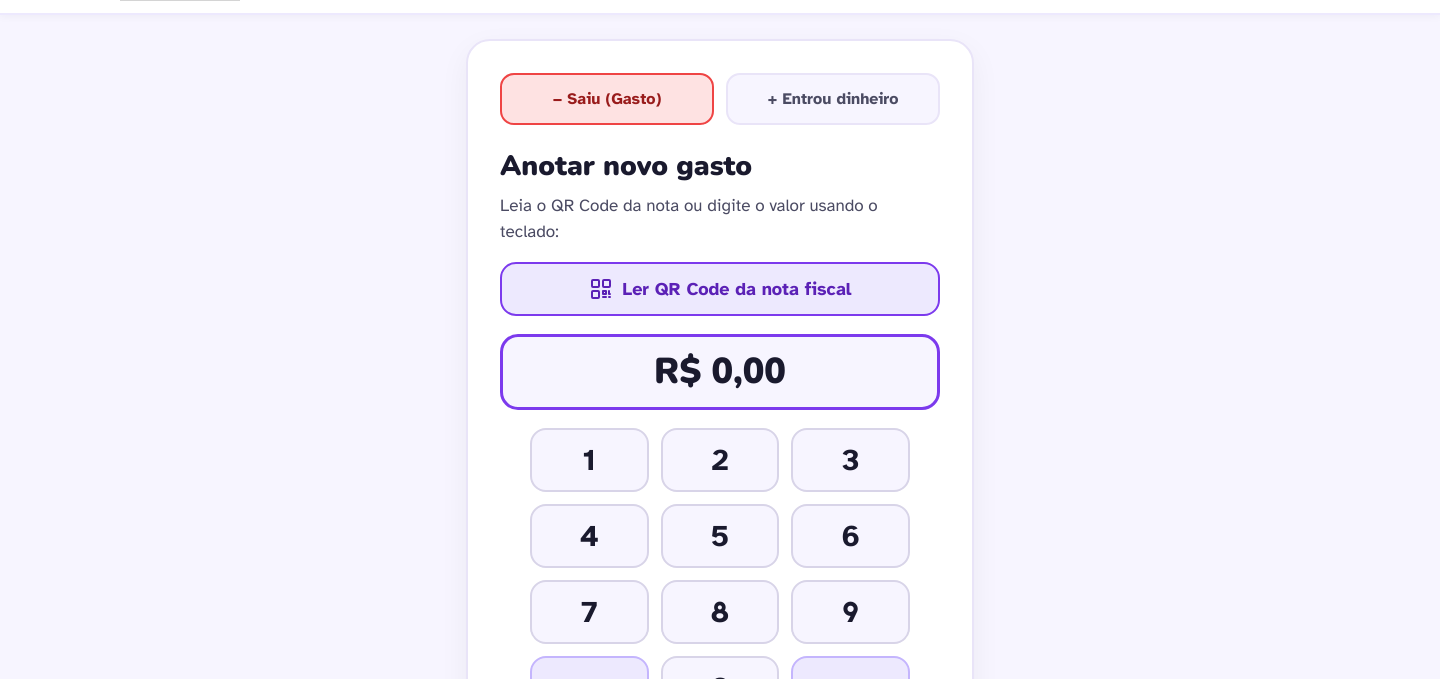
Test: Página AnotarGasto › grava o gasto na API com a categoria escolhida e só então confirma
What coordinates should you click on to do the following:
click the button "2"
I would click on:
 (720, 460)
Its box is [661,428,779,492].
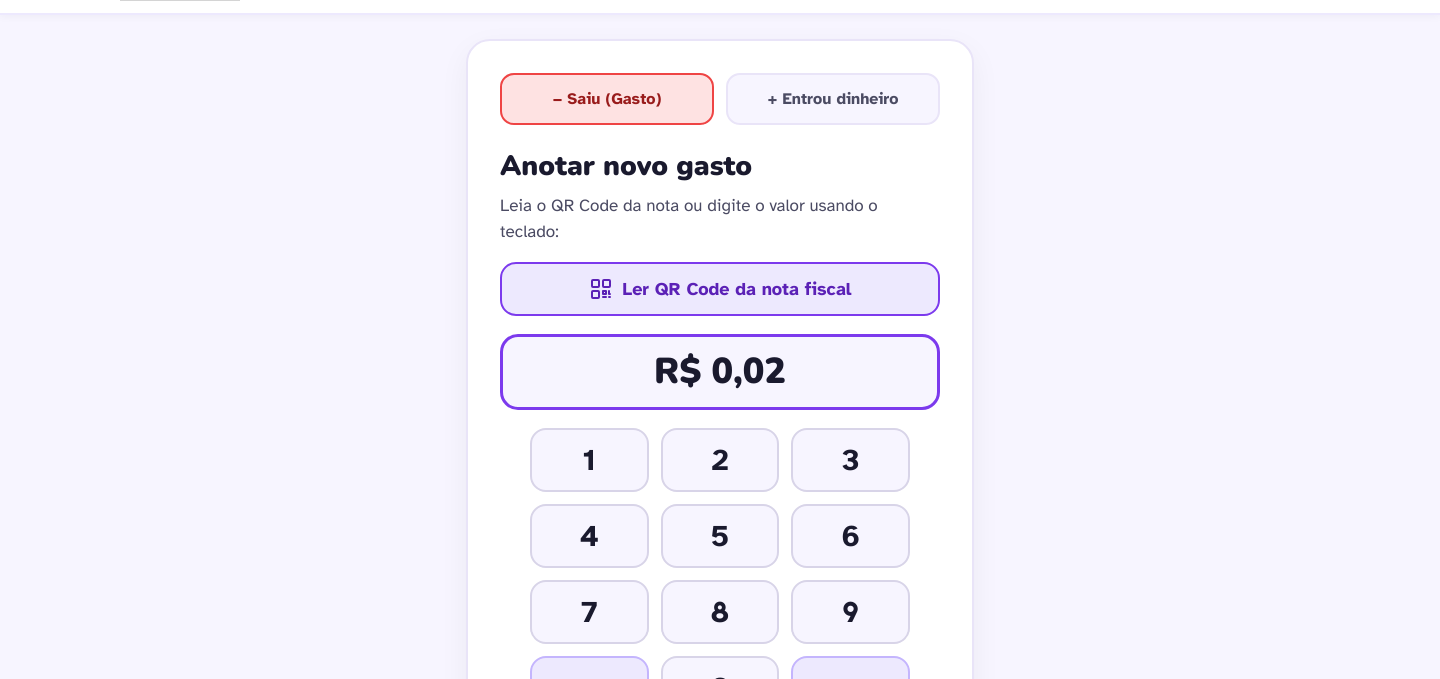
What coordinates should you click on to do the following:
click the button "5"
I would click on:
 (720, 536)
Its box is [661,504,779,568].
(page scrolled)
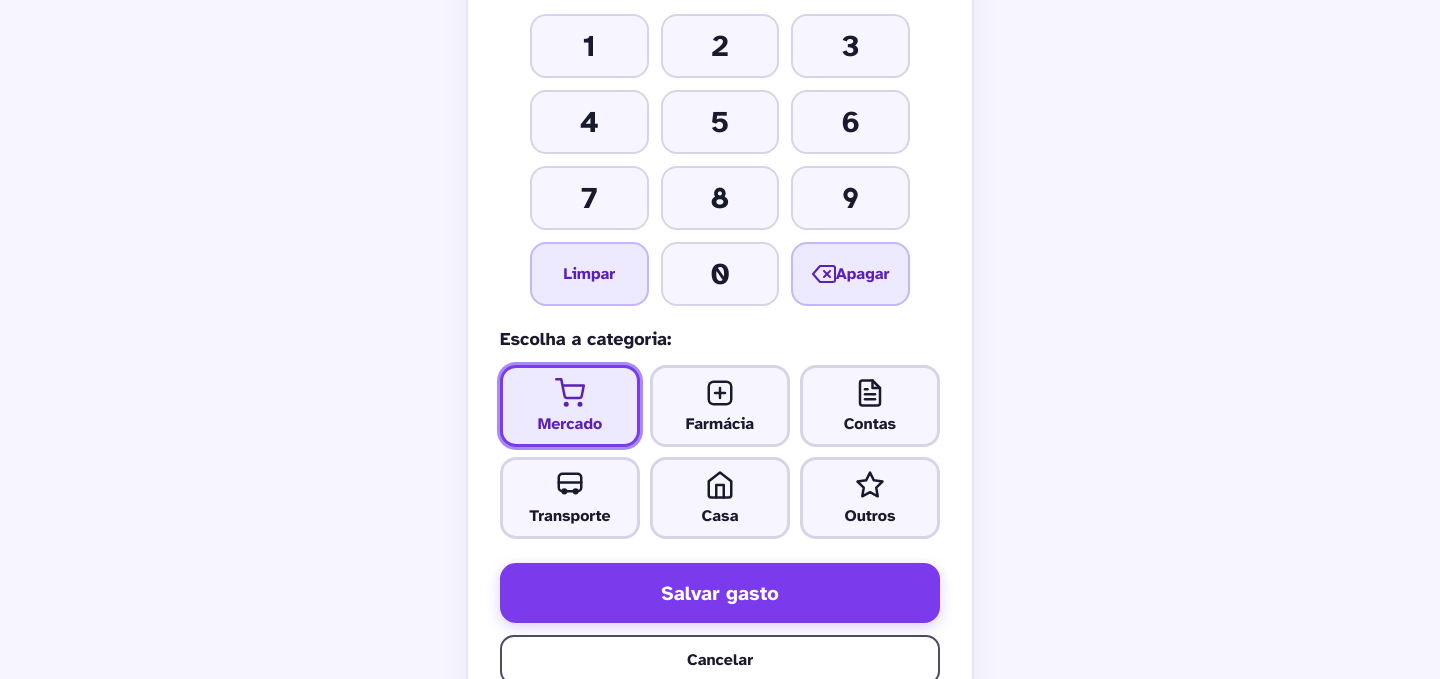
What coordinates should you click on to do the following:
click the button "0"
I would click on:
 (720, 274)
Its box is [661,242,779,306].
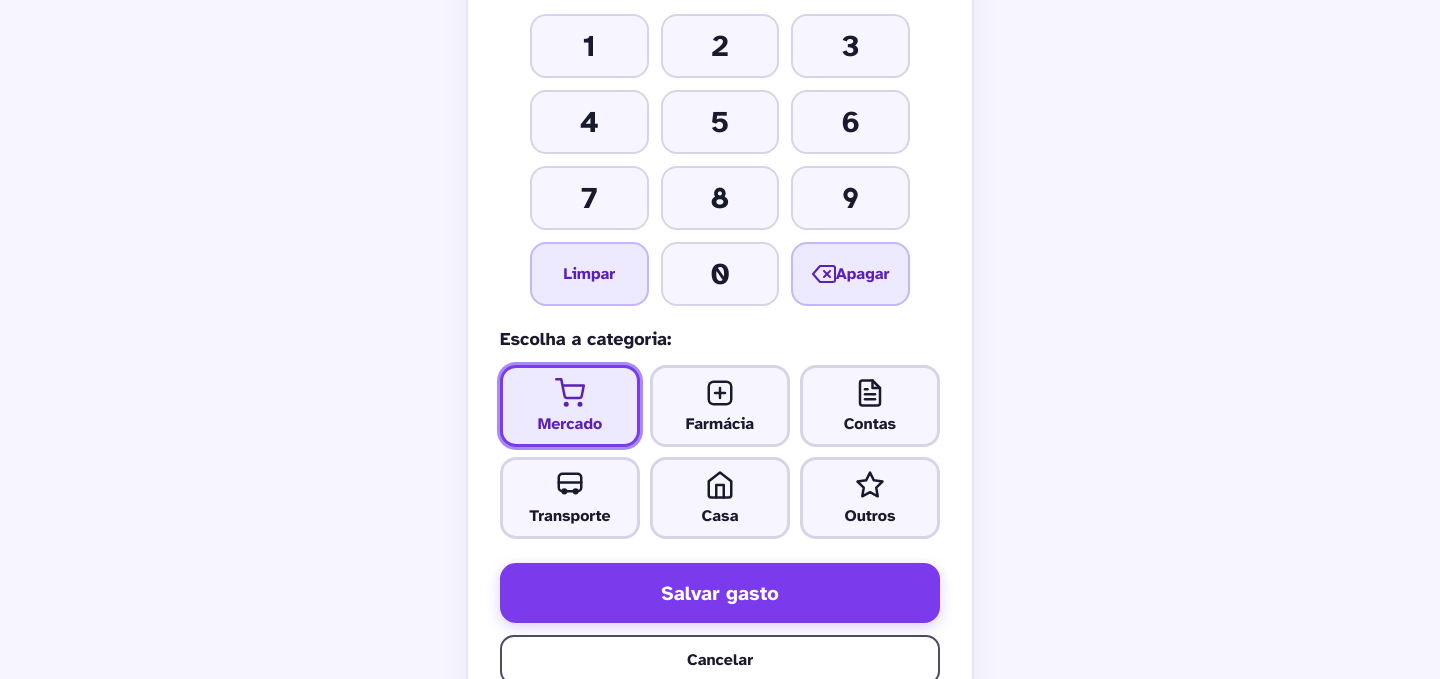
What coordinates should you click on to do the following:
click the button "0"
I would click on:
 (720, 274)
Its box is [661,242,779,306].
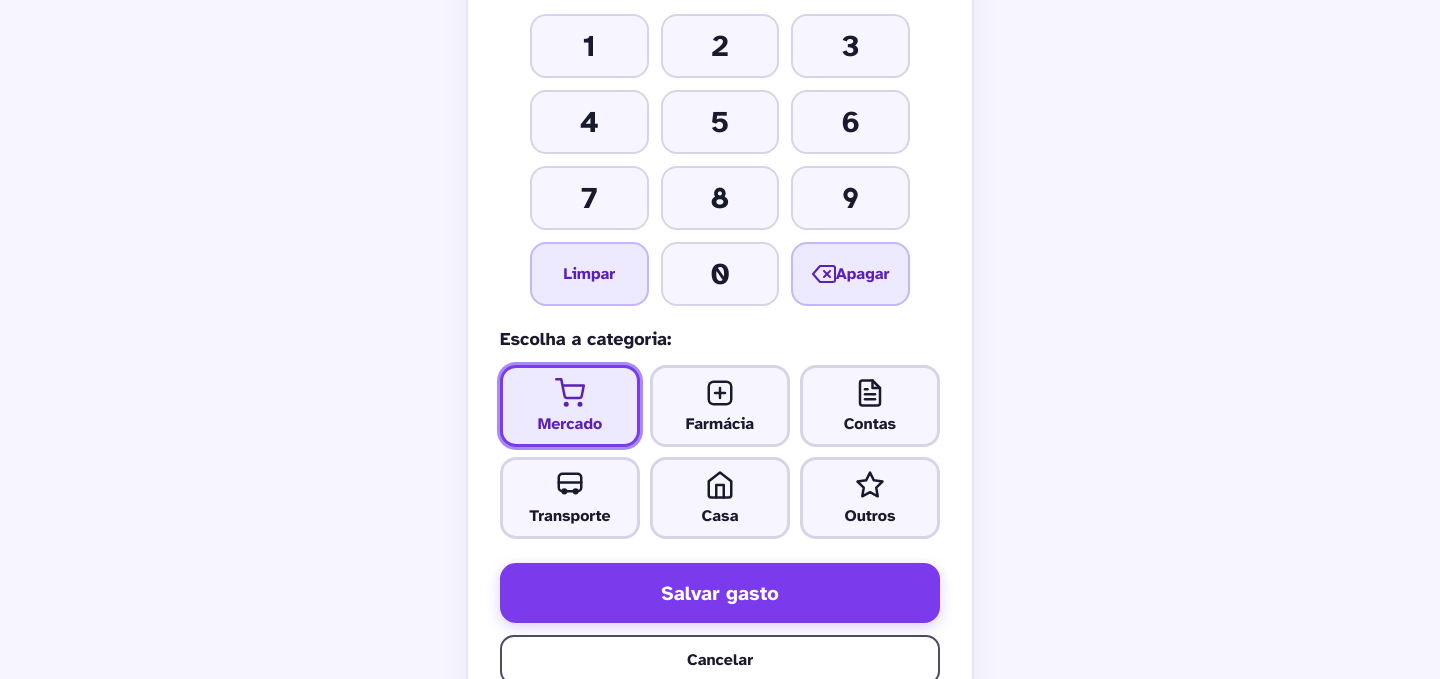
What coordinates should you click on to do the following:
click the radio button labelled "Farmácia"
I would click on:
 (720, 406)
Its box is [650,365,790,447].
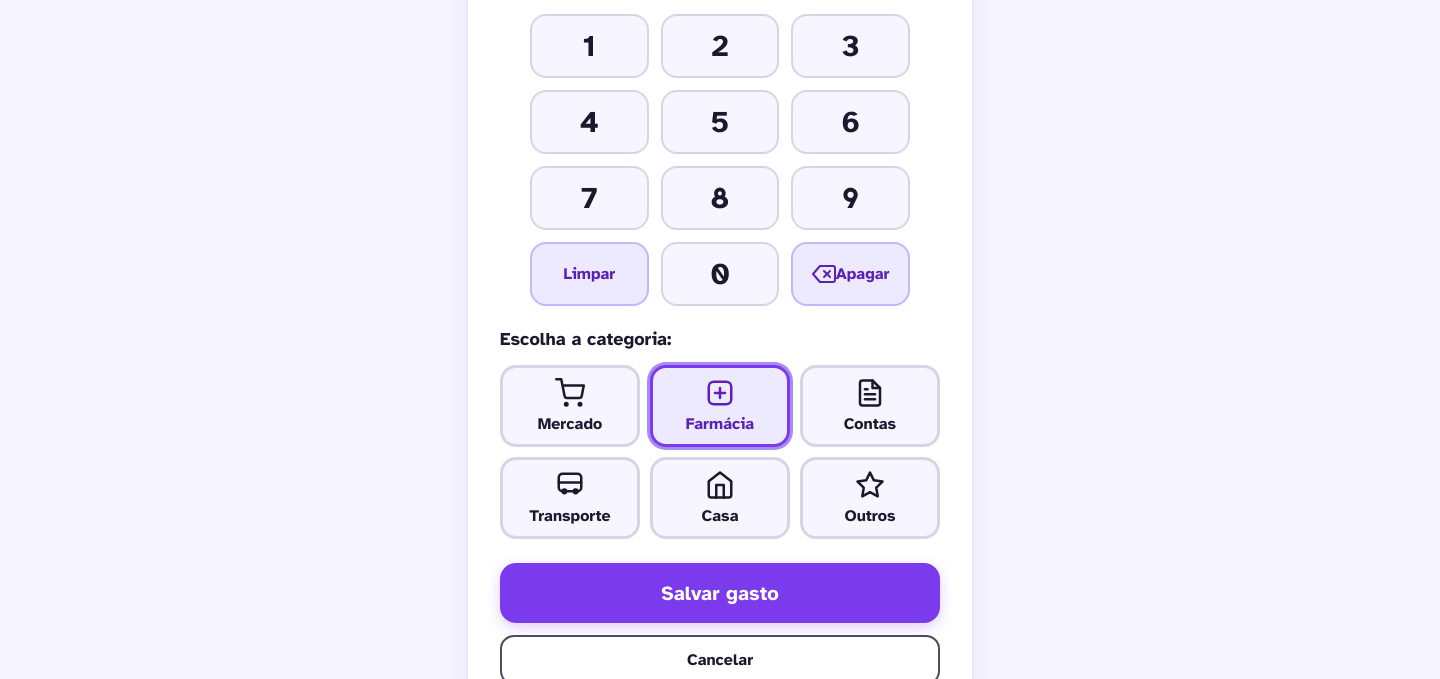
What coordinates should you click on to do the following:
click the button "Salvar gasto"
I would click on:
 (720, 593)
Its box is [500,563,940,623].
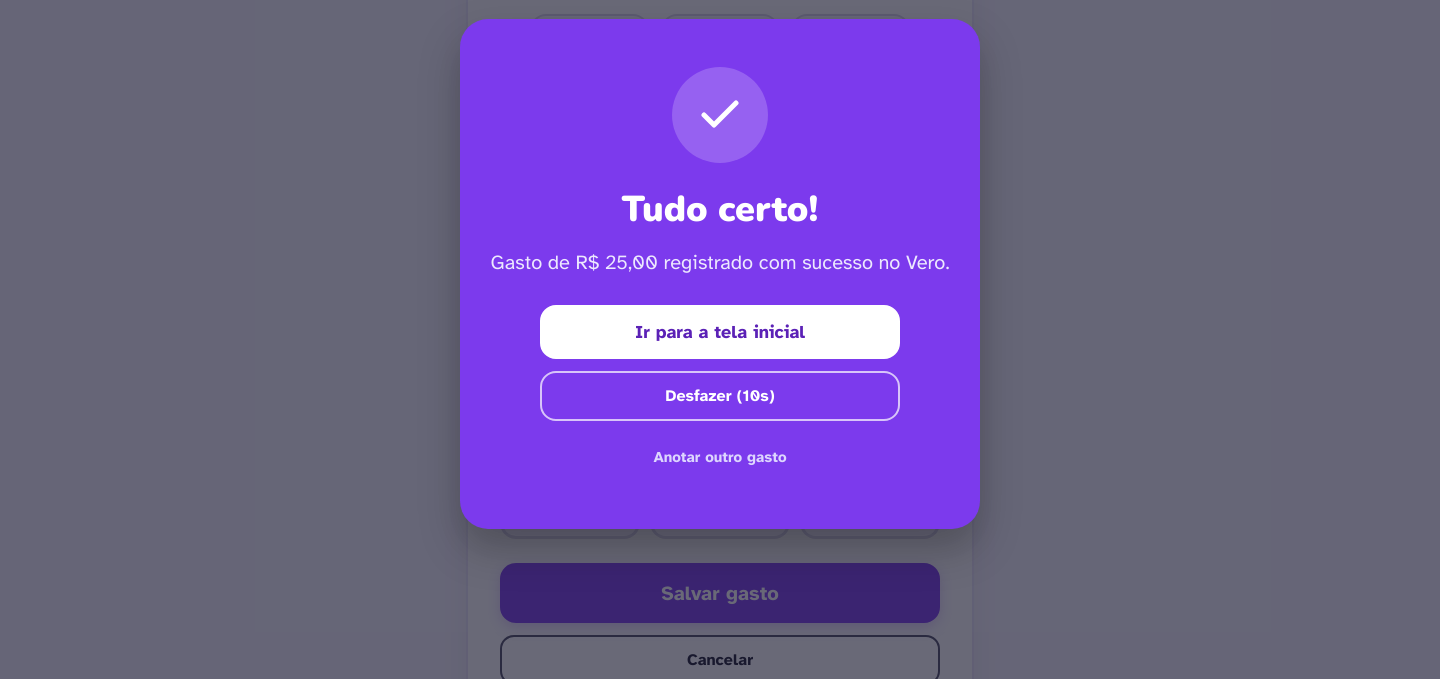
expect the heading "Tudo certo!" is shown: met, box [622,183,818,237]
expect the text "Gasto de R$ 25,00 registrado com sucesso no Vero." is shown: met, box [490,249,950,277]
